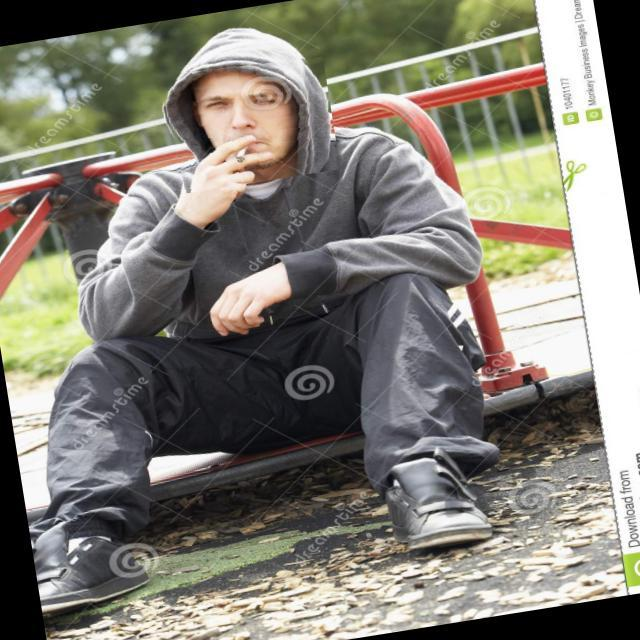cigarette: (219, 127, 264, 175)
